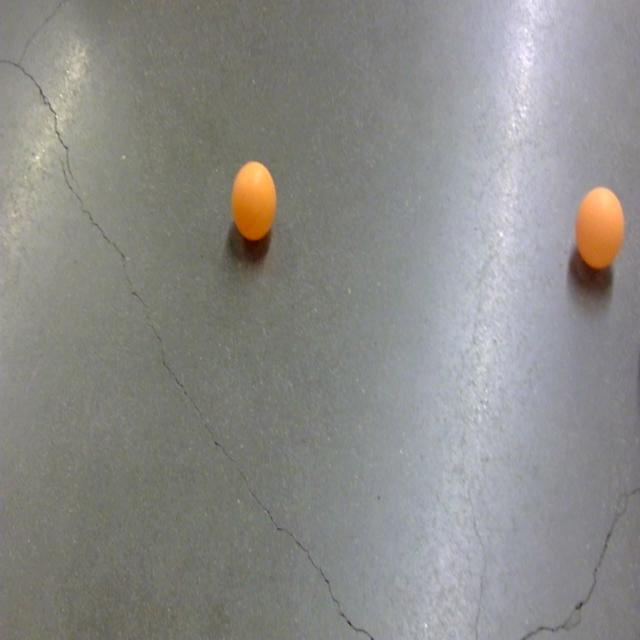ball: (574, 182, 626, 270), (228, 158, 279, 243)
